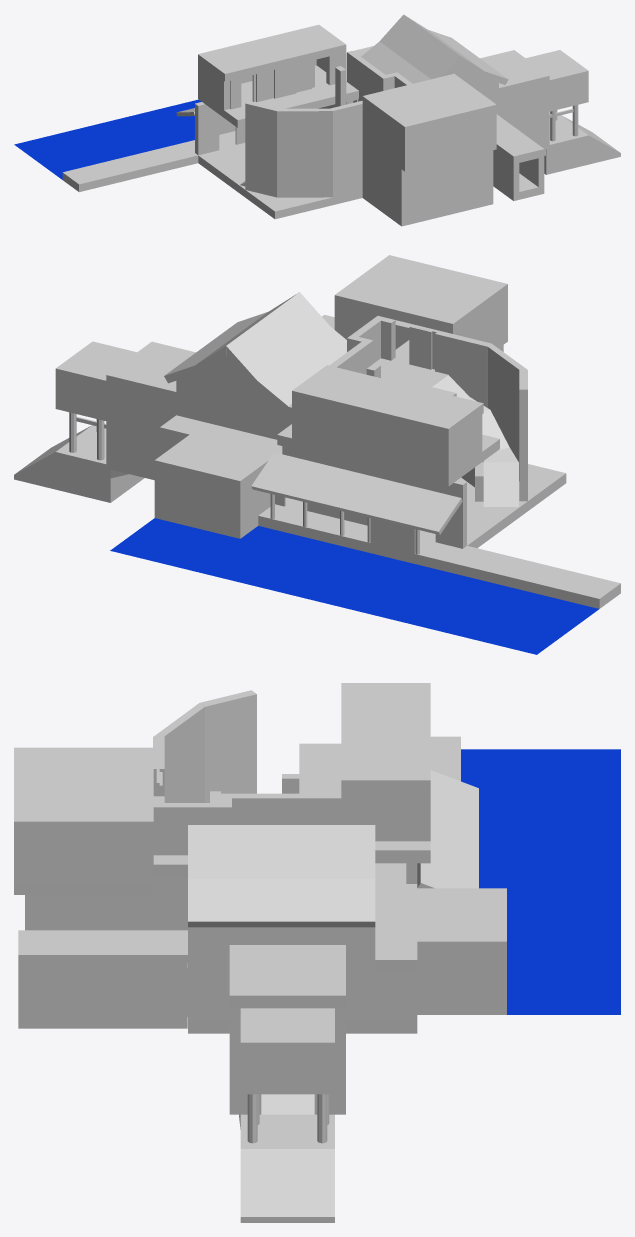
File: Blocky_MainRoom.fbx
3 views of the same model, one above another, from view 1: azimuth 30°, elevation 25°; view 2: azimuth 150°, elevation 25°; view 3: azimuth 270°, elevation 25° (orthographic). The views are drawn at different scales.
Parts seen in each view (by area): view 1: Plane.006, Cube.031, Cube.171, Cube.129, Cube.074, Cube.097, Cube.087, Cube.052, Cube.053, Cube.162, Cube.139, Cube.039 (+27 smaller); view 2: Plane.006, Cube.097, Cube.107, Cube.171, Cube.074, Cube.038, Cube.139, Cube.120, Cube.044, Cube.042, Cube.137, Cube.144 (+30 smaller); view 3: Plane.006, Cube.073, Cube.171, Cube.044, Cube.124, Cube.126, Cube.043, Cube.122, Cube.163, Cube.120, Cube.107, Cube.144 (+29 smaller).
Part boxes in pixels (bbox=[...]): Plane.006: bbox=[14, 99, 201, 179]; Cube.031: bbox=[277, 108, 332, 197]; Cube.171: bbox=[362, 73, 496, 134]; Cube.129: bbox=[407, 150, 493, 217]; Cube.074: bbox=[361, 14, 460, 83]; Cube.097: bbox=[62, 131, 245, 192]; Cube.087: bbox=[198, 144, 362, 219]; Cube.052: bbox=[245, 101, 279, 197]; Cube.053: bbox=[330, 100, 362, 197]; Cube.162: bbox=[410, 112, 496, 162]; Cube.139: bbox=[198, 38, 291, 81]; Cube.039: bbox=[499, 83, 549, 149]; Plane.006: bbox=[110, 518, 598, 654]; Cube.097: bbox=[258, 501, 620, 608]; Cube.107: bbox=[251, 452, 462, 534]; Cube.171: bbox=[334, 255, 507, 333]; Cube.074: bbox=[226, 292, 346, 406]; Cube.038: bbox=[106, 385, 176, 480]; Cube.139: bbox=[363, 382, 483, 438]; Cube.120: bbox=[154, 434, 271, 490]; Cube.044: bbox=[55, 341, 136, 420]; Cube.042: bbox=[55, 425, 144, 502]; Cube.137: bbox=[363, 418, 452, 476]; Cube.144: bbox=[292, 365, 397, 417]; Plane.006: bbox=[461, 749, 620, 1014]; Cube.073: bbox=[188, 825, 375, 927]; Cube.171: bbox=[14, 747, 153, 834]; Cube.044: bbox=[240, 1008, 334, 1094]; Cube.124: bbox=[18, 963, 187, 1015]; Cube.126: bbox=[229, 945, 345, 1008]; Cube.043: bbox=[240, 1149, 334, 1222]; Cube.122: bbox=[18, 930, 187, 967]; Cube.163: bbox=[25, 834, 153, 882]; Cube.120: bbox=[417, 888, 506, 954]; Cube.107: bbox=[417, 770, 478, 888]; Cube.144: bbox=[341, 736, 430, 793].
Bounding box in the file's own units: 10125 × 3060 × 6574.
